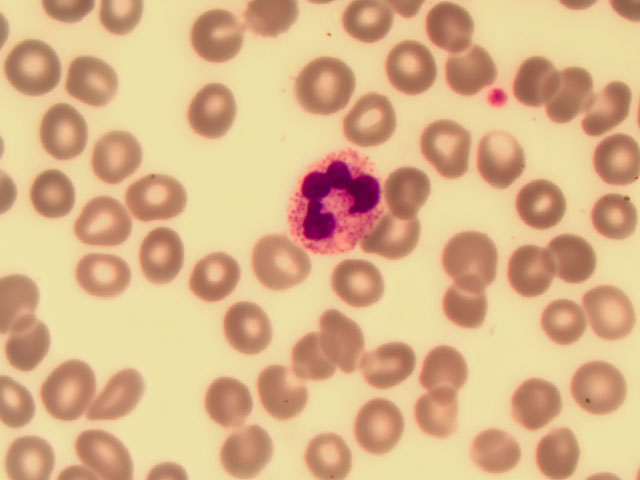Platelets: (488, 85, 519, 107)
RBC: (532, 294, 587, 356), (5, 38, 62, 95), (59, 51, 116, 108), (38, 103, 95, 160), (87, 124, 144, 181), (171, 87, 228, 144), (183, 8, 240, 65), (294, 56, 351, 113), (346, 92, 403, 149), (374, 37, 431, 94), (339, 2, 396, 59), (441, 35, 498, 92), (502, 51, 559, 108), (548, 65, 605, 122), (581, 80, 638, 137), (583, 149, 640, 206), (583, 189, 640, 246), (549, 232, 606, 289), (505, 244, 562, 301), (510, 172, 567, 229), (475, 131, 532, 188), (420, 120, 477, 177), (385, 160, 442, 217), (370, 210, 427, 267), (438, 228, 495, 285), (442, 281, 499, 338), (580, 283, 637, 340), (576, 357, 633, 414), (508, 383, 565, 440), (527, 416, 584, 473), (475, 418, 532, 475), (408, 380, 465, 437), (413, 338, 470, 395), (373, 337, 430, 394), (324, 306, 381, 363), (327, 262, 384, 319), (265, 237, 322, 294), (186, 246, 243, 303), (124, 228, 181, 285), (126, 172, 183, 229), (70, 191, 127, 248), (27, 172, 84, 229), (80, 243, 137, 300), (220, 296, 277, 353), (250, 363, 307, 420), (281, 328, 338, 385), (203, 373, 260, 430), (215, 419, 272, 476), (294, 423, 351, 480), (347, 397, 404, 454), (78, 423, 135, 480), (94, 358, 151, 415), (43, 359, 100, 416), (6, 311, 63, 368), (4, 423, 61, 480), (418, 1, 475, 57)
WBC: (282, 150, 389, 246)
